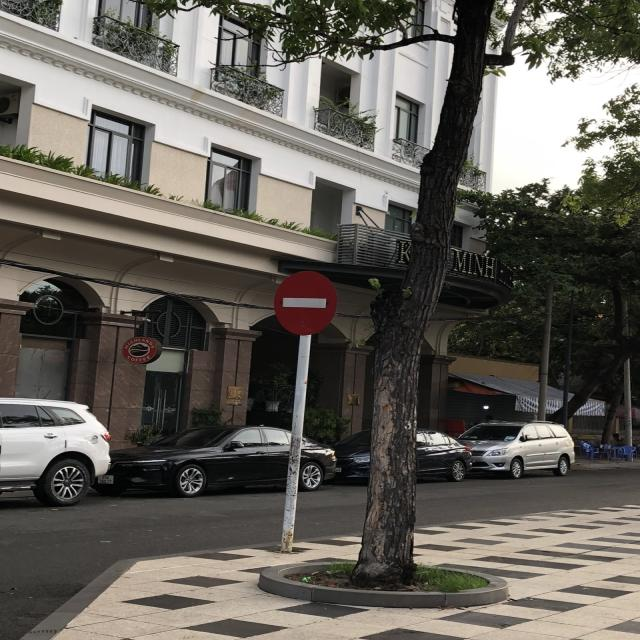Bien bao cam di nguoc chieu: (270, 267, 342, 340)
